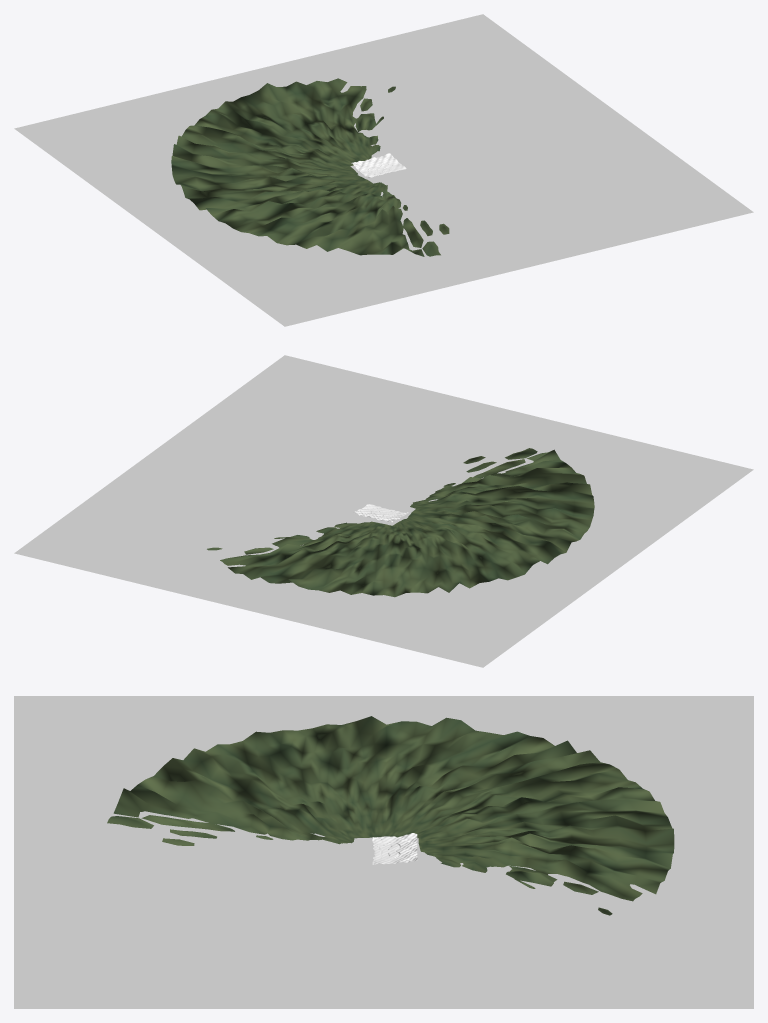
Rendered from map.glb.
The picture shows the model from 3 angles, top to bottom: view 1: azimuth 30°, elevation 25°; view 2: azimuth 150°, elevation 25°; view 3: azimuth 270°, elevation 25°; orthographic projection. The views are drawn at different scales.
Visible parts, largest first — view 1: Lake, Far_4, Far_5, Far_3, Far_2, Far_6; view 2: Lake, Far_3, Far_4, Far_5, Far_2, Far_6; view 3: Lake, Far_5, Far_4, Far_3, Far_2, Far_6.
Part boxes in pixels (left/top/right/bottom): Lake: left=14, top=14, right=753, bottom=326; Far_4: left=171, top=136, right=358, bottom=210; Far_5: left=179, top=83, right=367, bottom=166; Far_3: left=200, top=175, right=373, bottom=251; Far_2: left=327, top=182, right=449, bottom=256; Far_6: left=277, top=78, right=395, bottom=159; Lake: left=14, top=355, right=753, bottom=667; Far_3: left=408, top=483, right=594, bottom=552; Far_4: left=393, top=518, right=565, bottom=592; Far_5: left=279, top=521, right=437, bottom=597; Far_2: left=410, top=448, right=586, bottom=508; Far_6: left=207, top=522, right=370, bottom=583; Lake: left=14, top=696, right=753, bottom=1008; Far_5: left=418, top=750, right=674, bottom=851; Far_4: left=386, top=717, right=589, bottom=838; Far_3: left=183, top=716, right=386, bottom=838; Far_2: left=107, top=758, right=354, bottom=845; Far_6: left=422, top=837, right=674, bottom=915.
Bounding box in the file's own units: 18000 × 488 × 18000.
